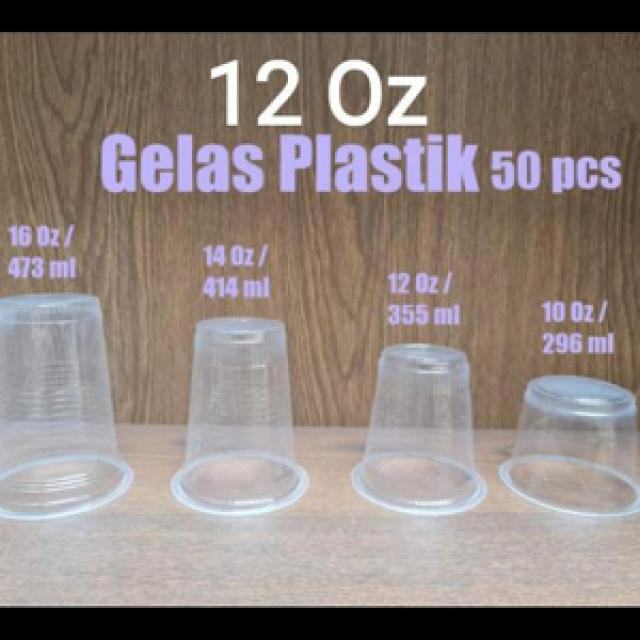plastic cup: (2, 290, 145, 531), (162, 312, 316, 534), (346, 337, 490, 527), (495, 361, 636, 529)
